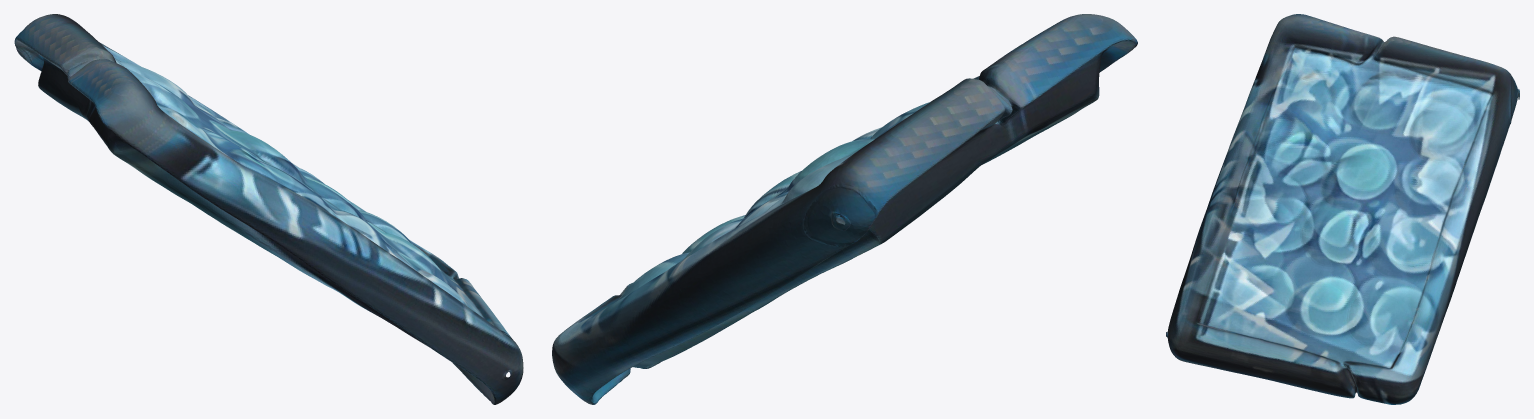
The model's file is dna_archive.glb.
The picture shows the model from 3 angles, left to right: view 1: azimuth 30°, elevation 25°; view 2: azimuth 150°, elevation 25°; view 3: azimuth 270°, elevation 25°; orthographic projection. The views are drawn at different scales.
Size of the model in its own units: 2 by 1.65 by 2.01.
1 material, 1 textured.
